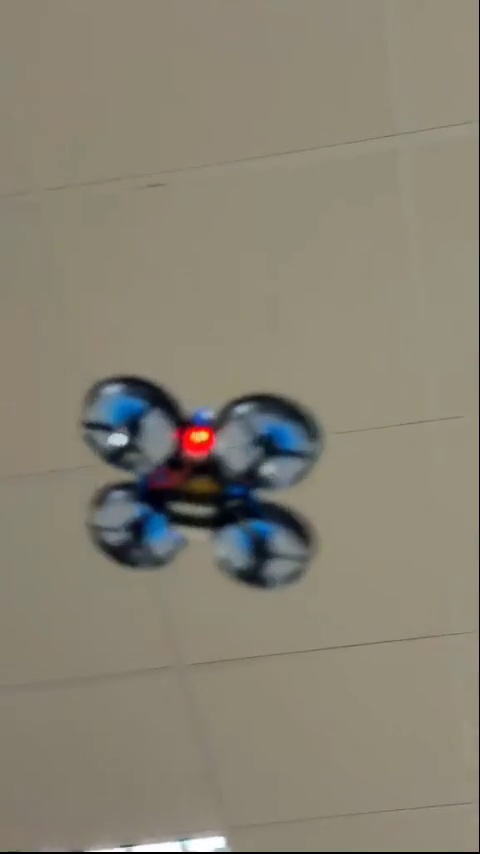drone: (77, 375, 313, 587)
